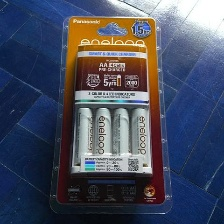battery: (74, 105, 99, 169), (109, 104, 132, 169), (92, 105, 112, 169), (130, 106, 148, 167)
book: (52, 15, 168, 213)
